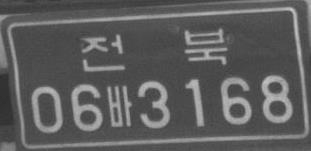0: (31, 85, 63, 134)
1: (180, 78, 210, 126)
3: (137, 80, 170, 129)
6: (70, 83, 103, 132), (219, 76, 252, 124)
8: (260, 74, 293, 123)
바: (105, 85, 132, 127)
전북_D: (79, 28, 228, 71)
